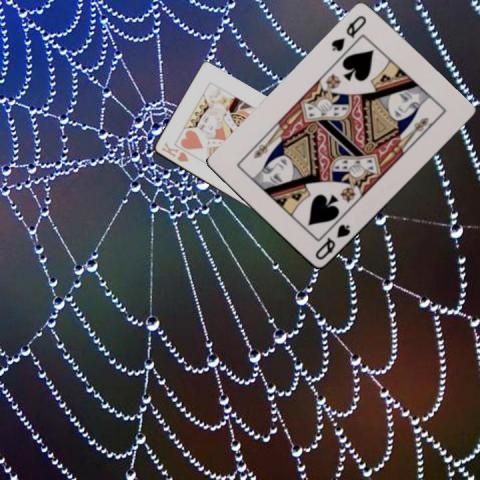Kh: (158, 139, 190, 164)
Qs: (312, 221, 352, 262), (328, 13, 368, 53)
